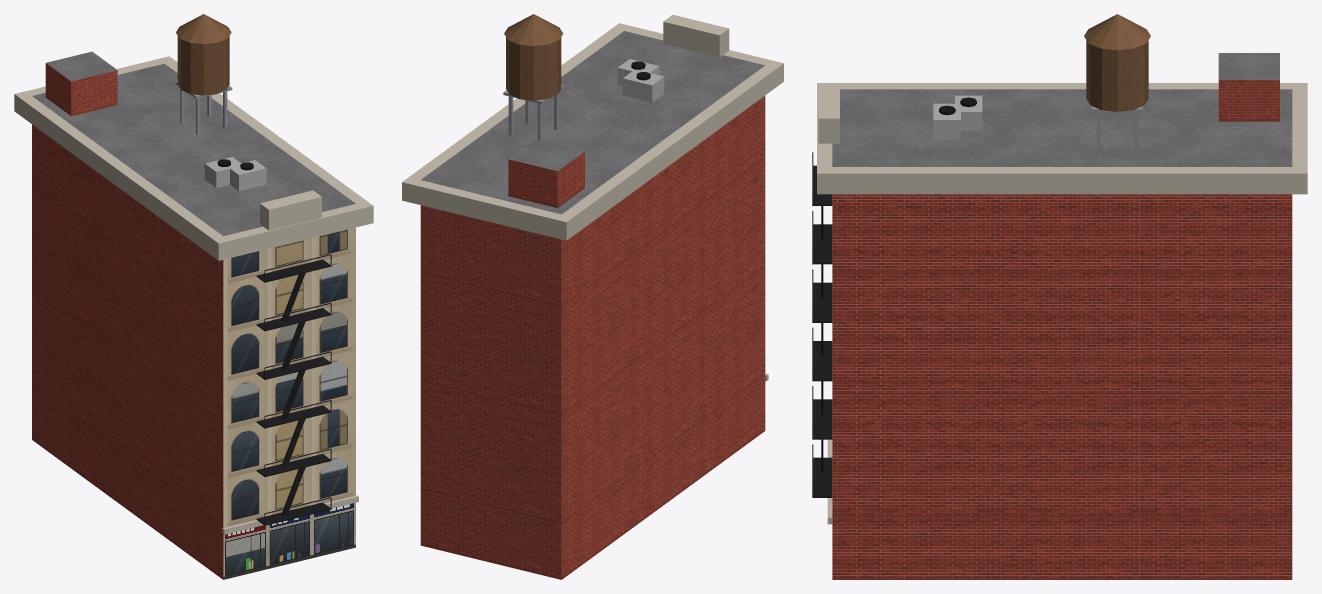
Rendered from 027_castiron_cream.glb.
3 renders of one model, left to right at view 1: azimuth 30°, elevation 25°; view 2: azimuth 150°, elevation 25°; view 3: azimuth 270°, elevation 25°, orthographic. The views are drawn at different scales.
Parts seen in each view (by area): view 1: 027_castiron_cream; view 2: 027_castiron_cream; view 3: 027_castiron_cream.
Part boxes in pixels (bbox=[...]): 027_castiron_cream: bbox=[14, 14, 373, 579]; 027_castiron_cream: bbox=[402, 14, 783, 579]; 027_castiron_cream: bbox=[812, 14, 1307, 579].
Size of the model in its own units: 14 by 39.3 by 32.3.
Materials: 10 (5 with a texture image).
